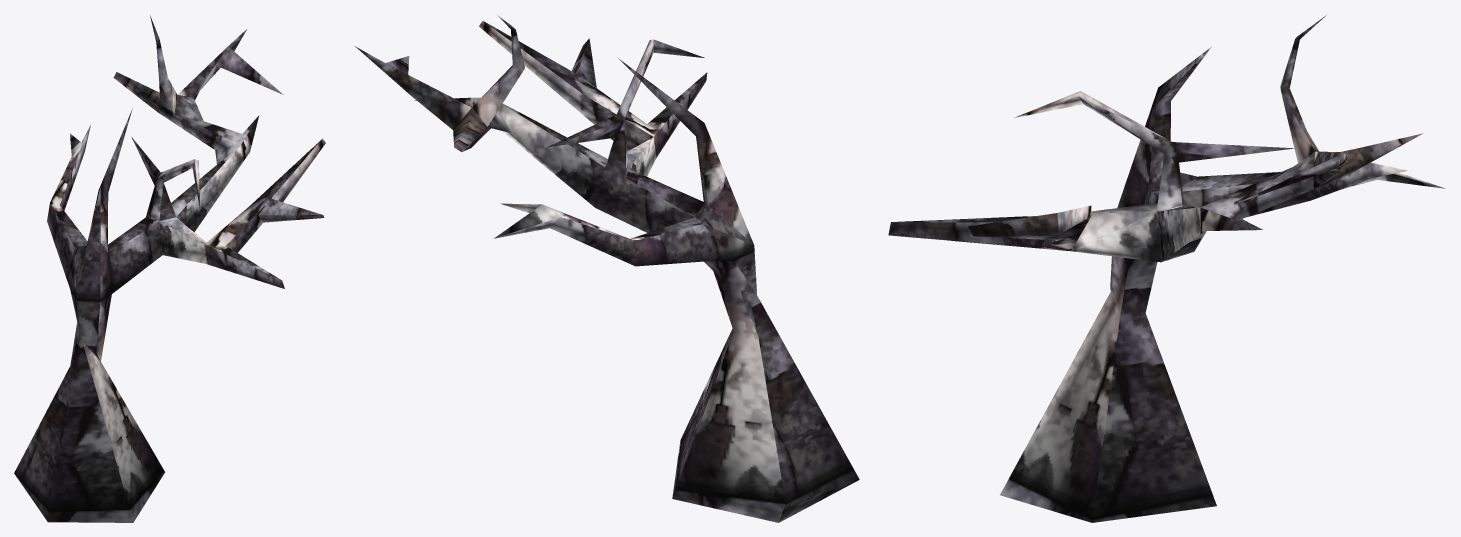
Rendered from BurntTree_2.gltf.
3 renders of one model, left to right at view 1: azimuth 30°, elevation 25°; view 2: azimuth 150°, elevation 25°; view 3: azimuth 270°, elevation 25°, orthographic. The views are drawn at different scales.
Visible parts, largest first — view 1: BurntTree_2; view 2: BurntTree_2; view 3: BurntTree_2.
Part boxes in pixels (<box>): BurntTree_2: <box>14,15,325,522</box>; BurntTree_2: <box>355,15,859,522</box>; BurntTree_2: <box>888,15,1444,522</box>.
Size of the model in its own units: 7.22 by 9.28 by 7.99.
1 material, 1 textured.
